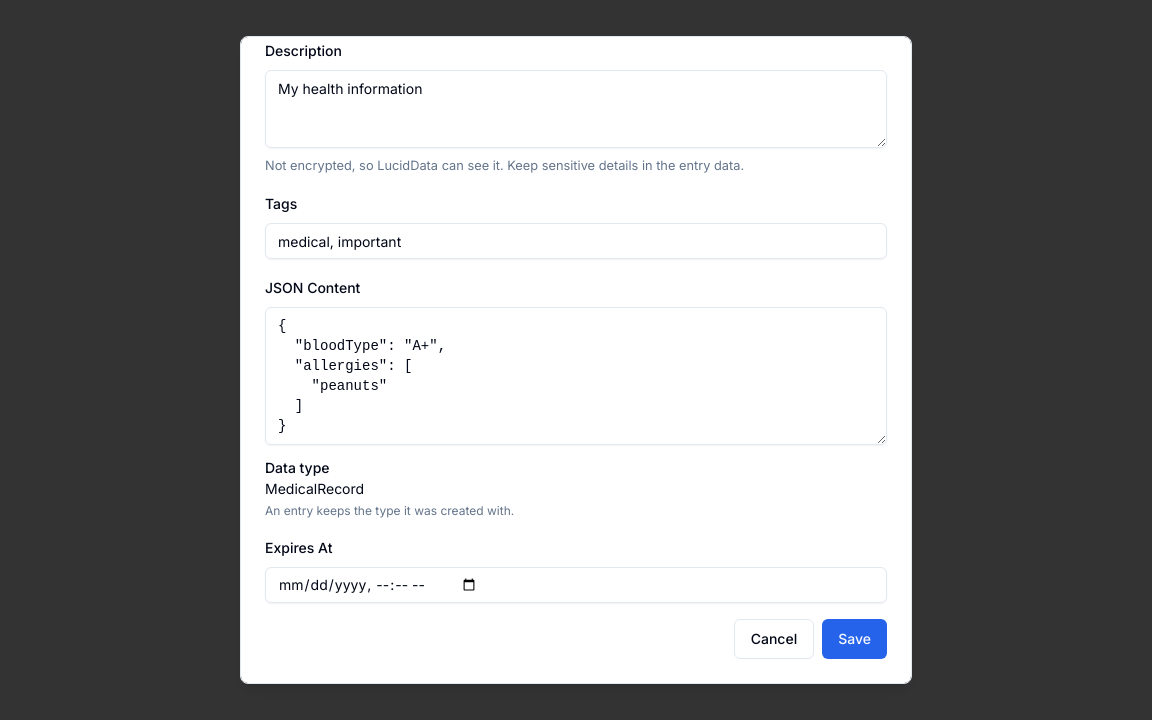
it: VaultEditDialog › Validation › validates modified data JSON
(page scrolled)
Replace the text in the text box named "data" with "invalid json" at (576, 376), box top-left (265, 307), bottom-right (887, 445)
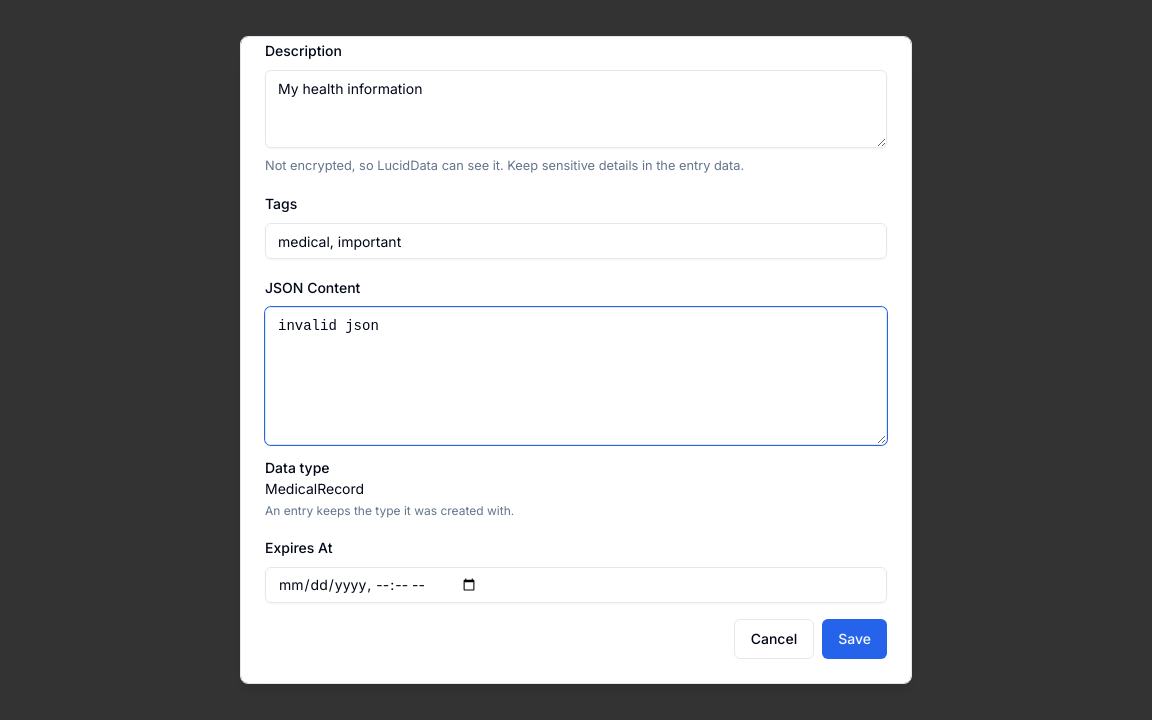
Click the button "Save" at (855, 639), box top-left (822, 619), bottom-right (887, 659)
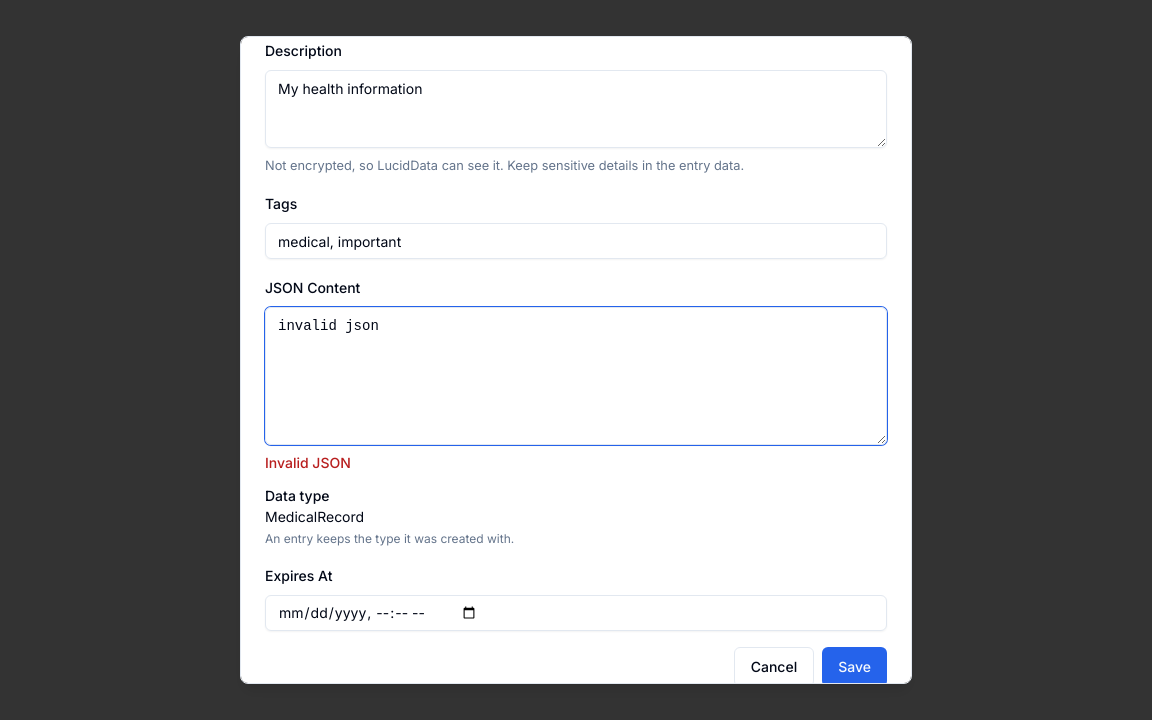
Expected: the text "Invalid JSON" is shown, top-left (265, 454), bottom-right (351, 471)
